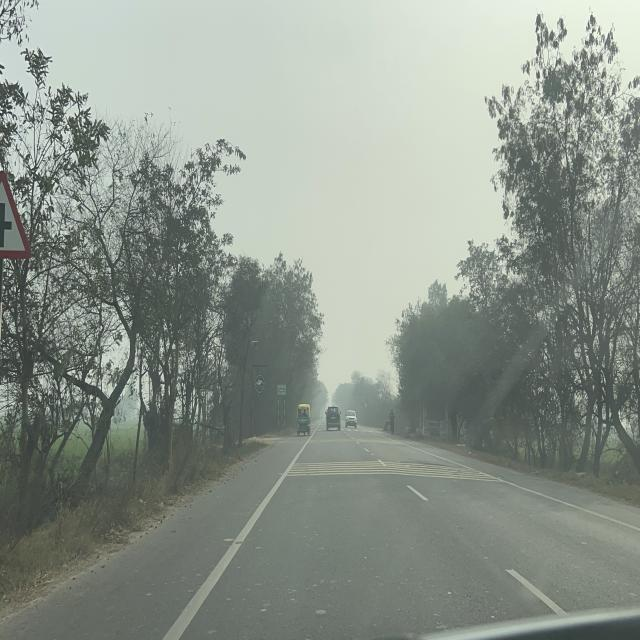GENERAL: (278, 384, 286, 396)
SIDE_ROAD_RIGHT: (0, 172, 33, 260)
